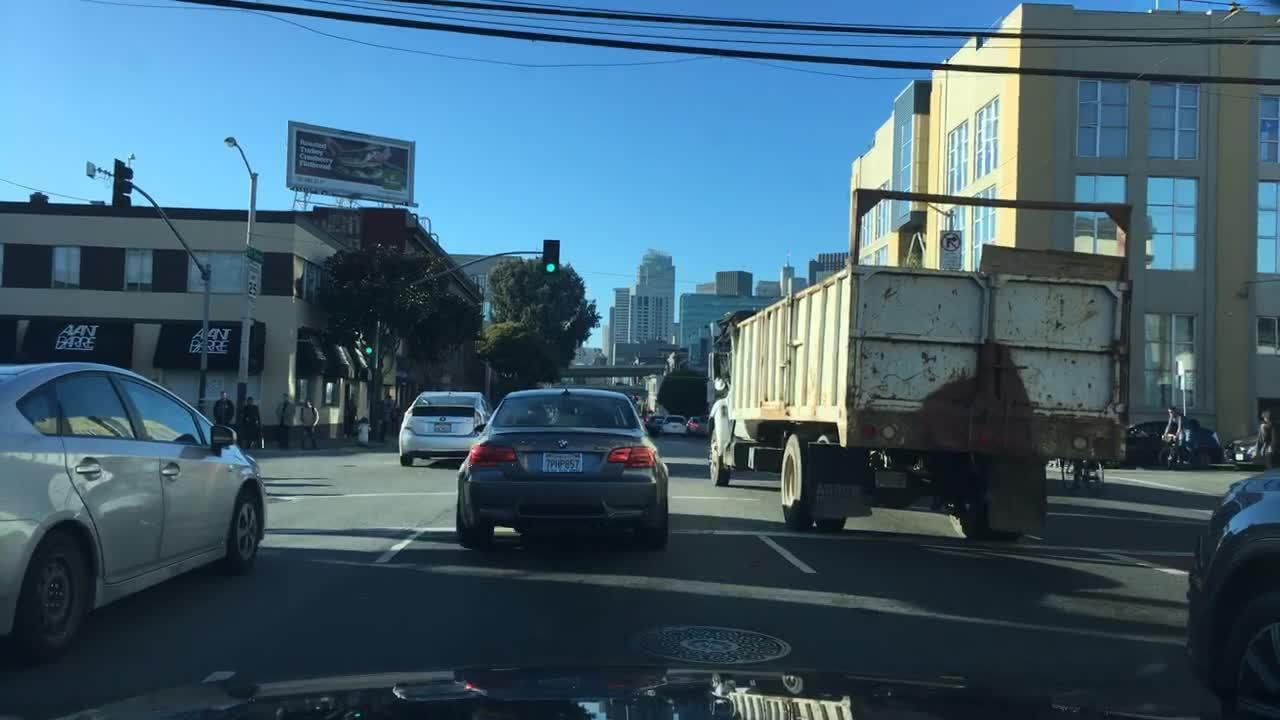bmw: (555, 436, 571, 456)
